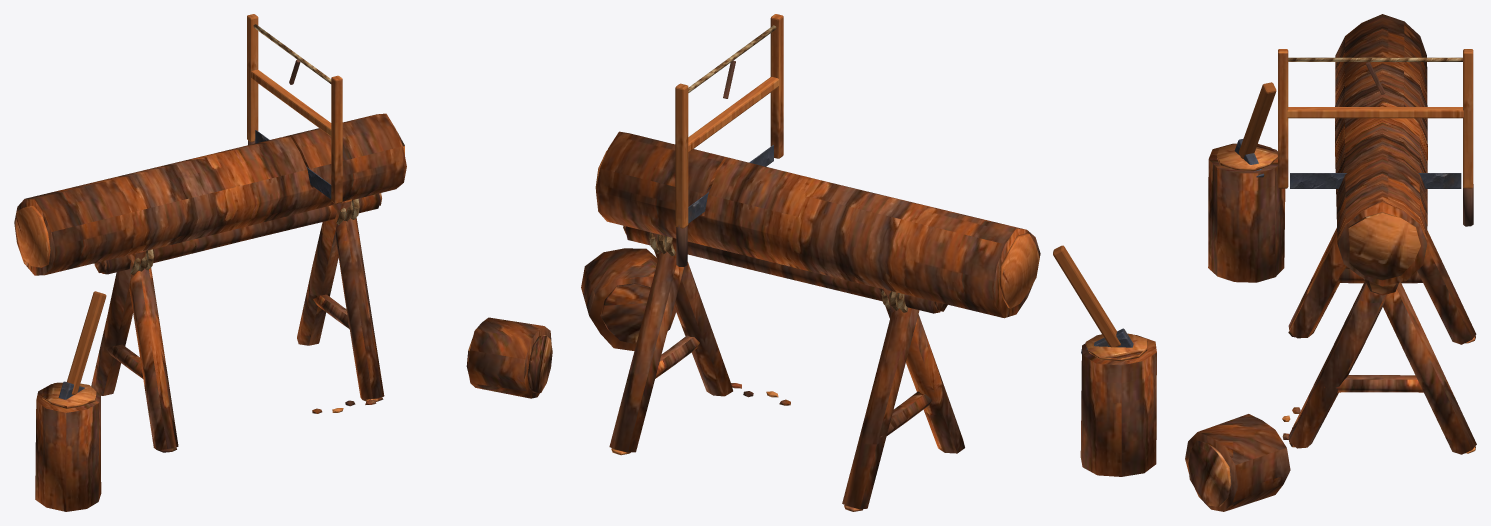
Rendered from mg_sawhorse_left.glb.
3 views of the same model, side by side, from view 1: azimuth 30°, elevation 25°; view 2: azimuth 150°, elevation 25°; view 3: azimuth 270°, elevation 25° (orthographic). The views are drawn at different scales.
Visible parts, largest first — view 1: model; view 2: model; view 3: model.
Boxes of the visible parts, box(x1,y1,x2,y2) form: model: box(14, 14, 552, 511); model: box(581, 14, 1156, 511); model: box(1185, 14, 1476, 511).
Bounding box in the file's own units: 1.88 × 1.19 × 0.8513.
14 materials, 14 textured.
